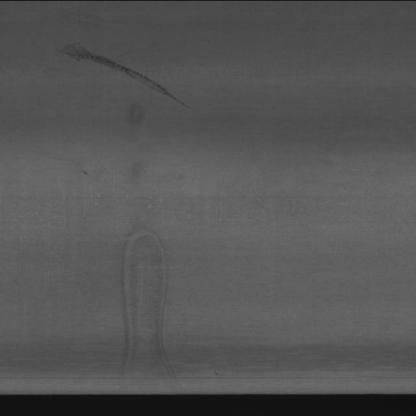water_spot: (48, 32, 186, 104)
